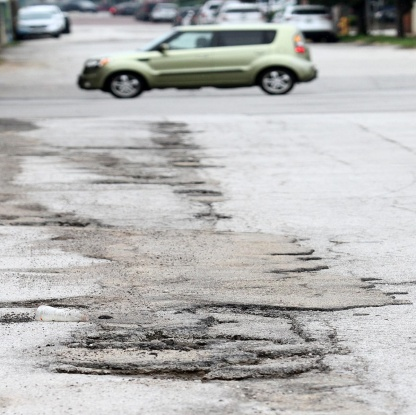pothole: (64, 307, 330, 389), (136, 126, 235, 241)
